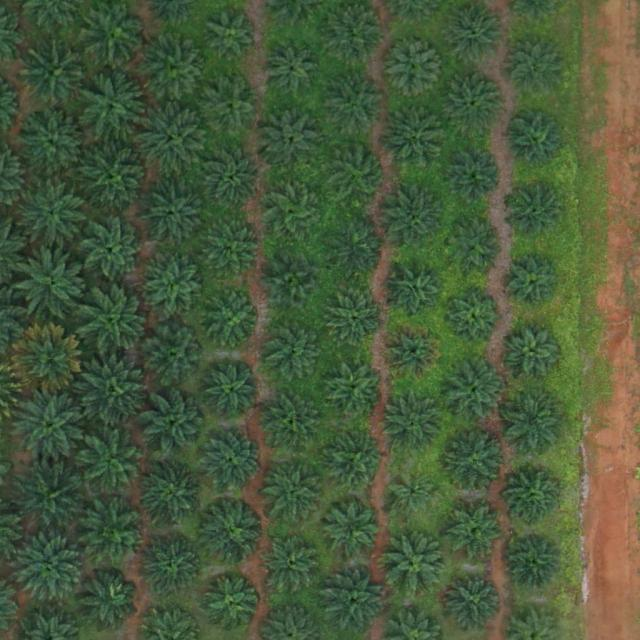Healthy: (12, 462, 83, 533), (14, 538, 85, 609), (23, 42, 93, 113), (17, 249, 87, 320), (81, 145, 151, 216), (82, 285, 152, 356), (138, 104, 208, 175), (140, 179, 210, 250), (77, 356, 147, 427), (14, 389, 85, 459), (19, 109, 89, 179), (19, 183, 89, 253), (77, 72, 147, 142), (78, 430, 148, 500), (144, 39, 207, 102), (199, 75, 262, 138), (260, 105, 323, 168), (447, 3, 510, 66), (442, 360, 505, 423), (324, 432, 387, 495), (262, 461, 325, 524), (142, 393, 205, 456), (142, 534, 205, 597), (82, 221, 144, 284), (202, 218, 264, 281), (327, 76, 389, 139), (384, 38, 446, 101), (383, 107, 445, 170), (384, 190, 446, 253), (443, 73, 505, 136), (505, 109, 567, 172), (502, 390, 564, 453), (386, 534, 448, 597), (324, 359, 386, 422), (323, 572, 385, 635), (265, 319, 327, 382), (263, 393, 325, 456), (262, 534, 324, 597), (200, 430, 262, 493), (203, 501, 265, 564), (144, 324, 206, 387), (141, 465, 203, 528), (85, 499, 147, 562), (83, 2, 145, 64), (329, 144, 391, 206), (328, 219, 390, 281), (444, 432, 506, 494), (383, 393, 445, 455), (78, 569, 140, 631), (147, 261, 202, 316), (266, 44, 321, 99), (265, 183, 320, 238), (267, 257, 322, 312), (446, 150, 501, 205), (448, 220, 503, 275), (508, 41, 563, 96), (510, 185, 565, 240), (508, 256, 563, 311), (389, 265, 444, 320), (508, 325, 563, 380), (508, 534, 563, 589), (450, 504, 505, 559), (446, 573, 501, 628), (329, 292, 384, 347), (204, 294, 259, 349), (204, 578, 259, 633), (207, 151, 261, 206), (508, 473, 562, 528), (447, 289, 501, 344), (326, 502, 380, 557), (206, 366, 260, 421), (209, 11, 256, 59)
Small: (391, 473, 438, 520)
Yellow: (13, 325, 83, 396), (387, 326, 441, 381)
